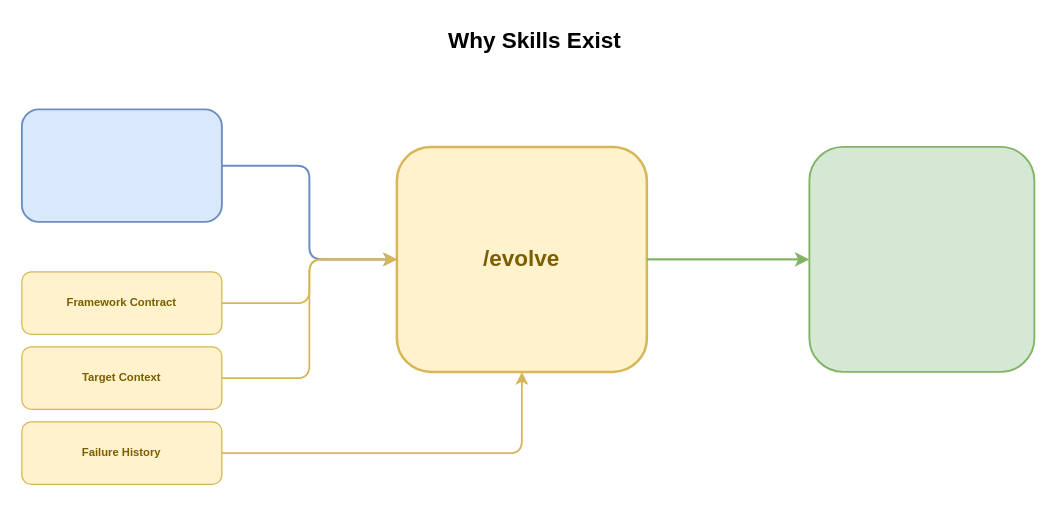
Some shapes in this 1058 by 506 pixel diagram are drawn without their labels. Each missing label, with the centre of its shape:
"Any LLM Agent" goes at [121,165].
"Valid Mutation" goes at [921,258].
